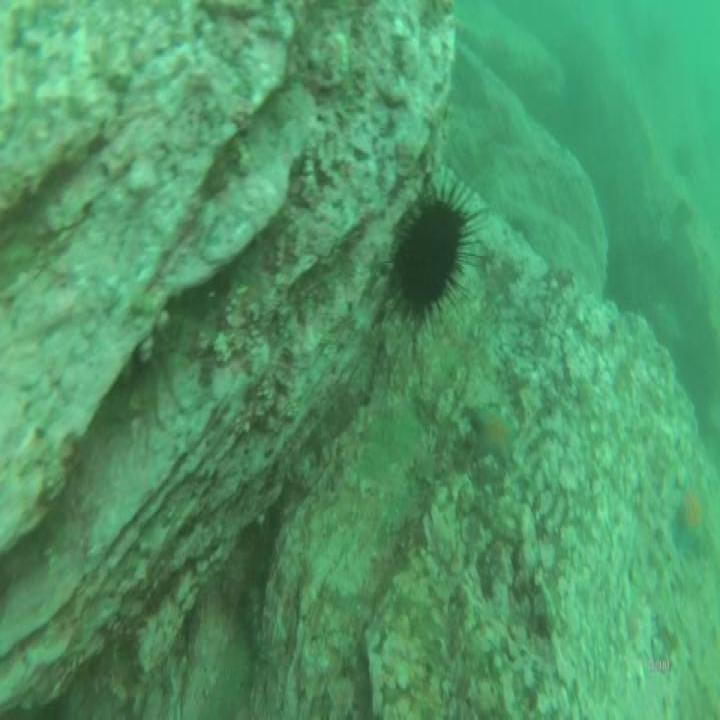echinus: (374, 162, 486, 338), (670, 133, 695, 178), (670, 194, 694, 236)
starfish: (467, 398, 522, 478), (672, 468, 713, 570)
